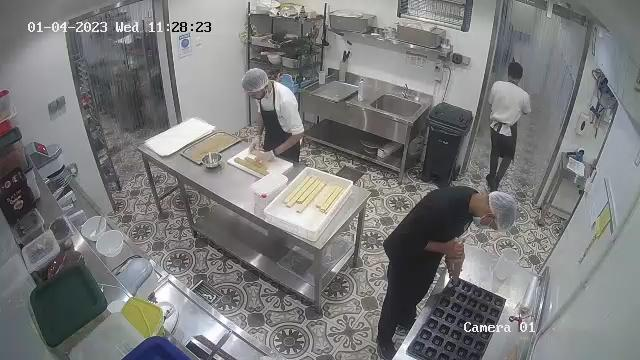apron: (257, 81, 301, 163)
